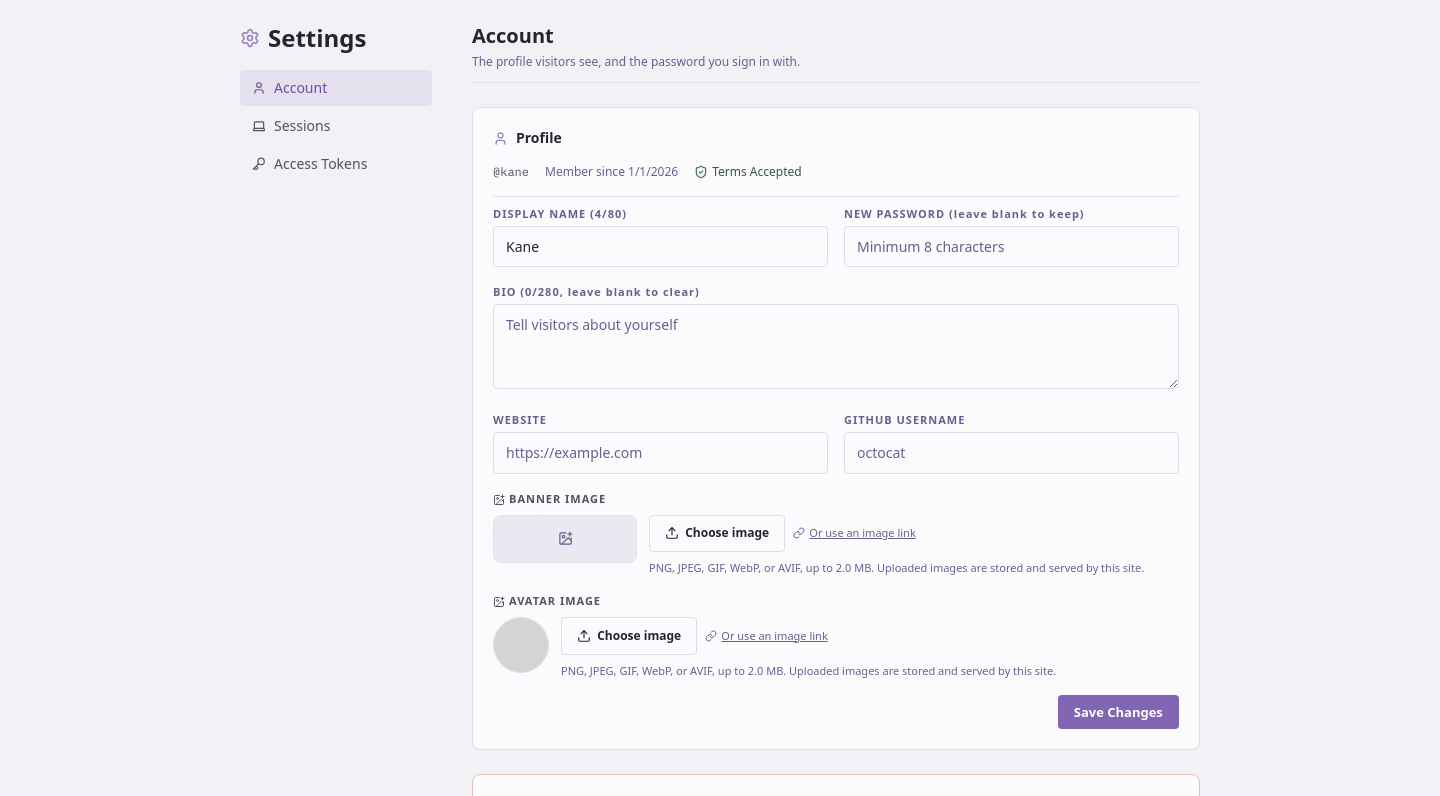
Test: SettingsPage › warns when a new password is set without the current one
This screenshot has width=1440, height=796.
In the password field with placeholder "Minimum 8 characters": (1012, 247) 844,226 -> 1179,267, type "new-secret-1"
(page scrolled)
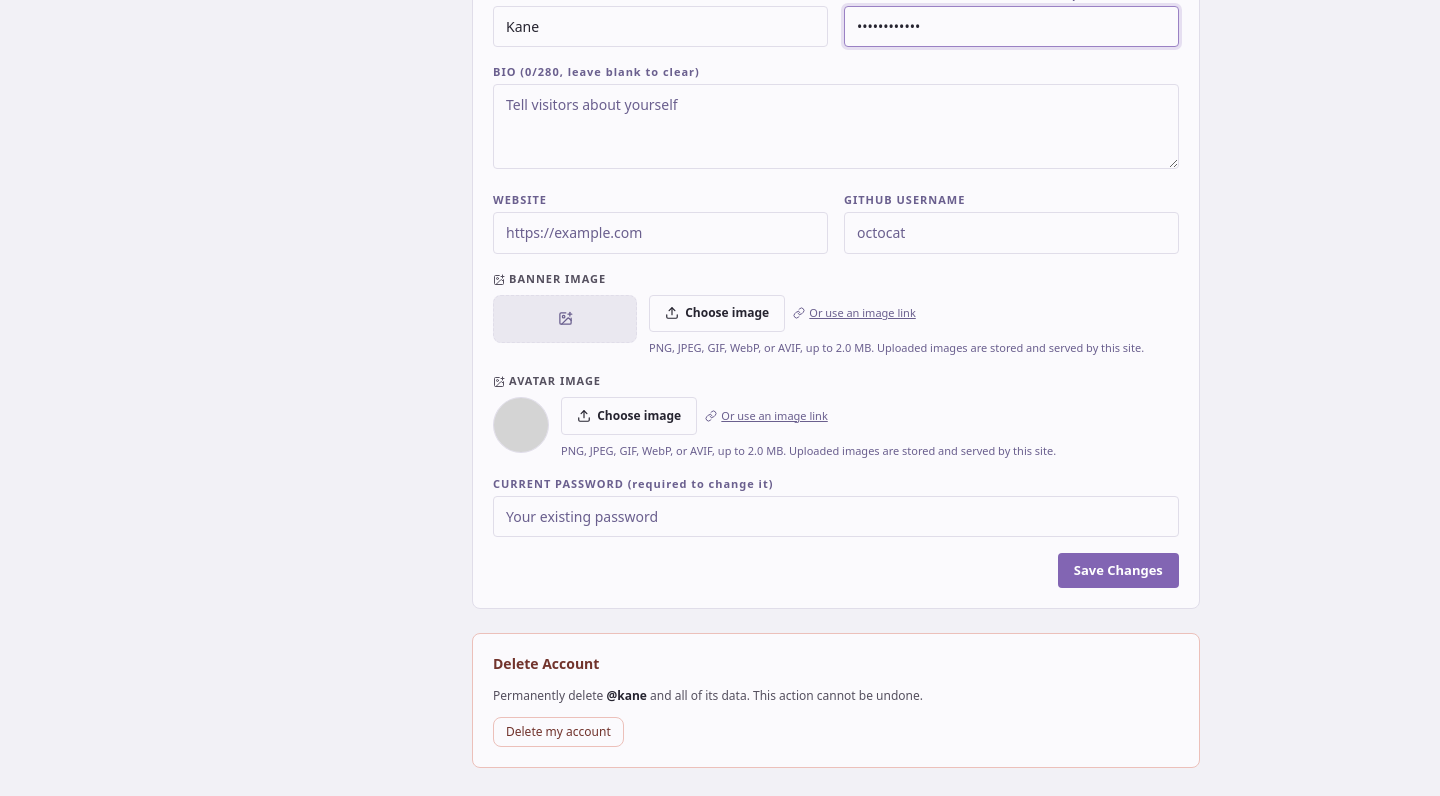
Click the button "Save Changes": (1118, 570) 1058,553 -> 1179,588
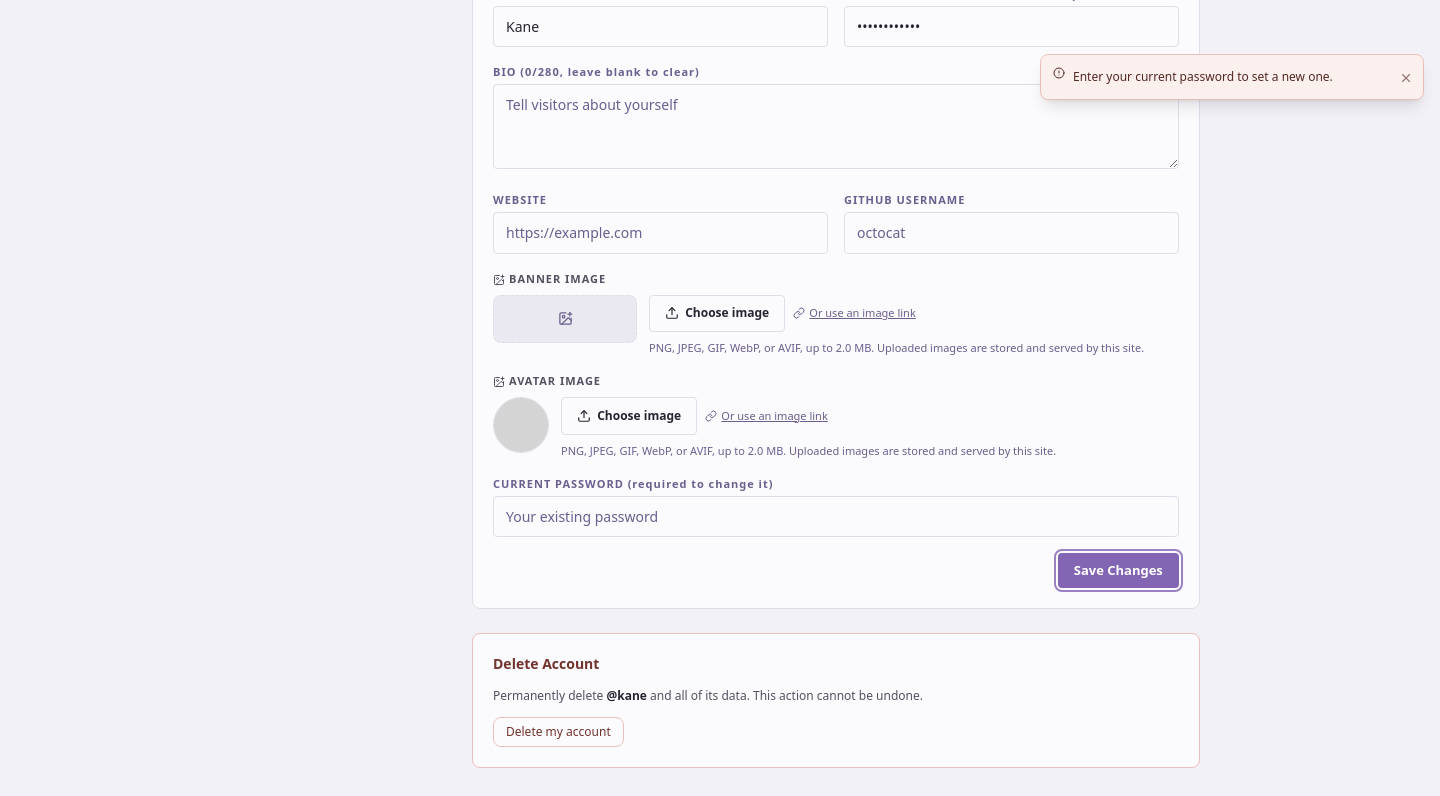
Expected: the text "Enter your current password to set a new one." is shown, 1073,68 -> 1333,85
